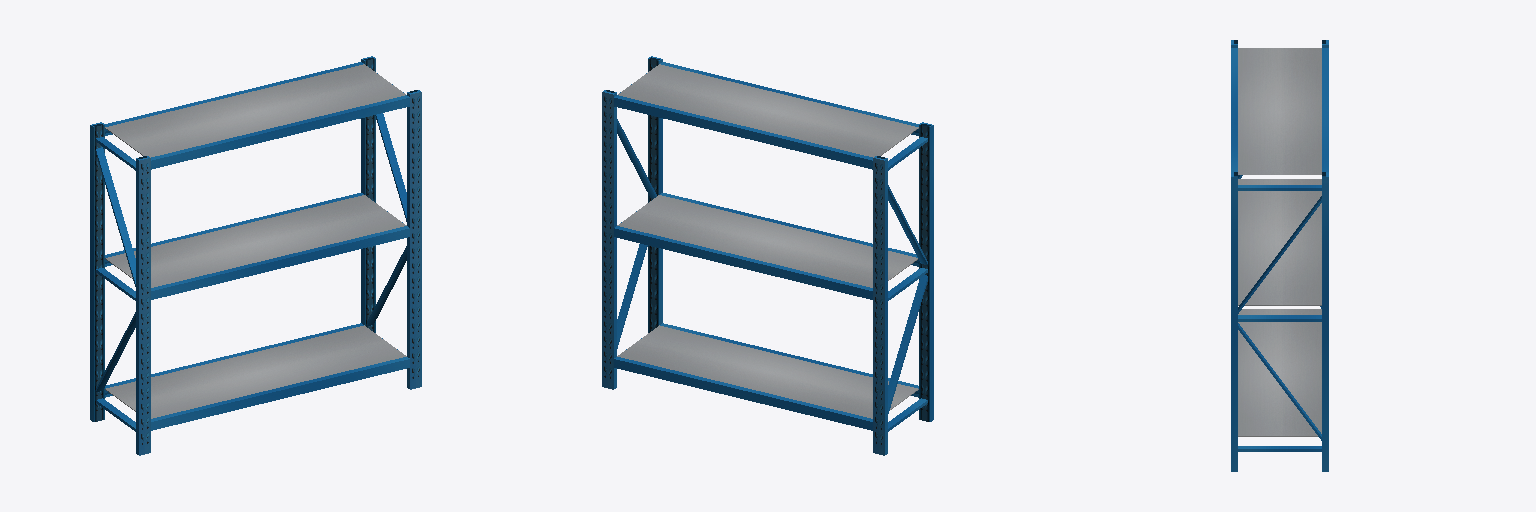
3 renders of one model, left to right at view 1: azimuth 30°, elevation 25°; view 2: azimuth 150°, elevation 25°; view 3: azimuth 270°, elevation 25°, orthographic.
Parts seen in each view (by area): view 1: Mesh14; view 2: Mesh14; view 3: Mesh14.
Part boxes in pixels (x1,y1,x2,y2): Mesh14: (90, 56, 421, 455); Mesh14: (602, 56, 933, 455); Mesh14: (1231, 40, 1328, 471).
Size of the model in its own units: 2000 by 2000 by 600.
Materials: 1 (1 with a texture image).